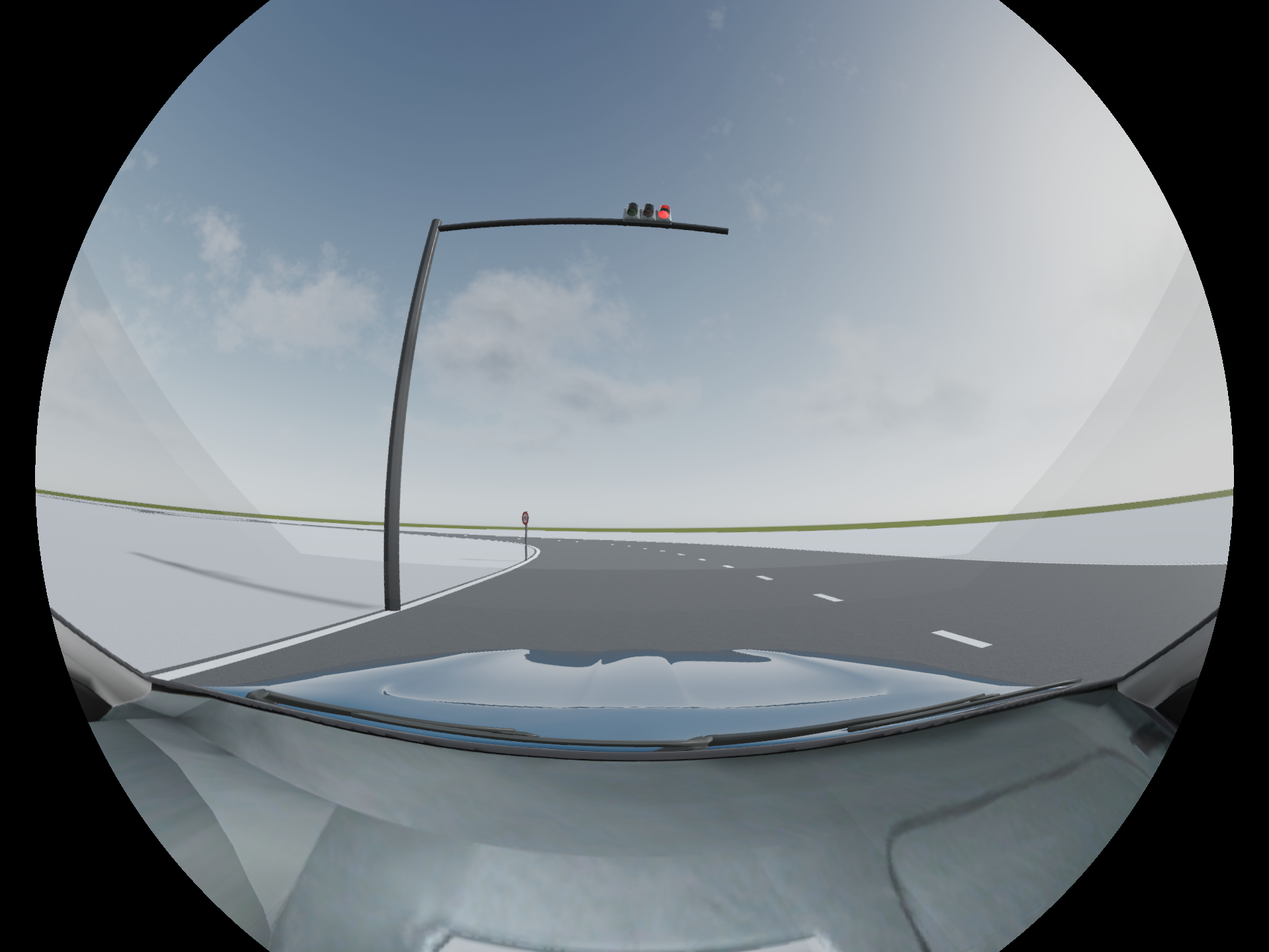Red Light: (623, 202, 673, 226)
